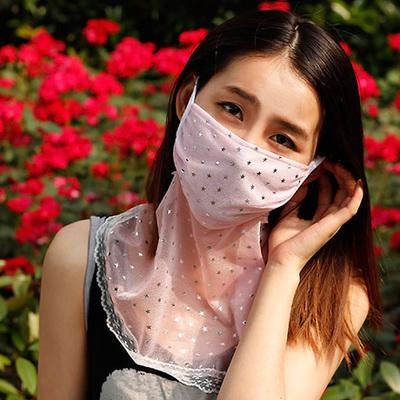OK: (179, 81, 318, 220)
